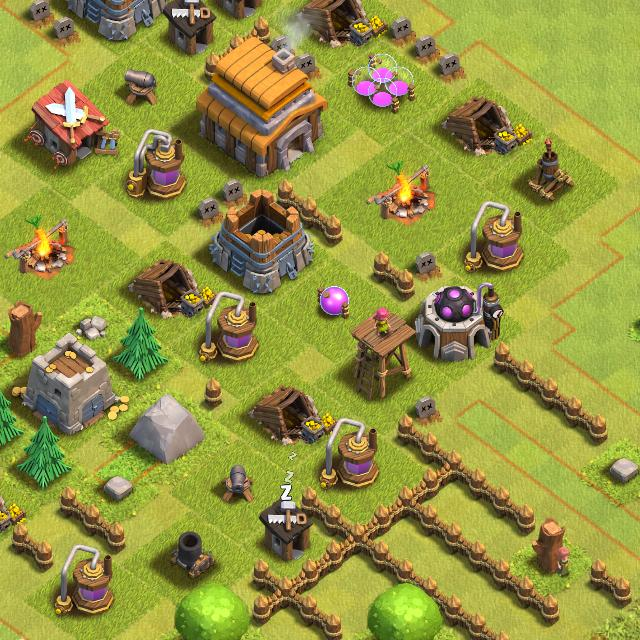Arqueira: (348, 309, 414, 402)
Canhao: (120, 67, 159, 108), (221, 463, 255, 503)
